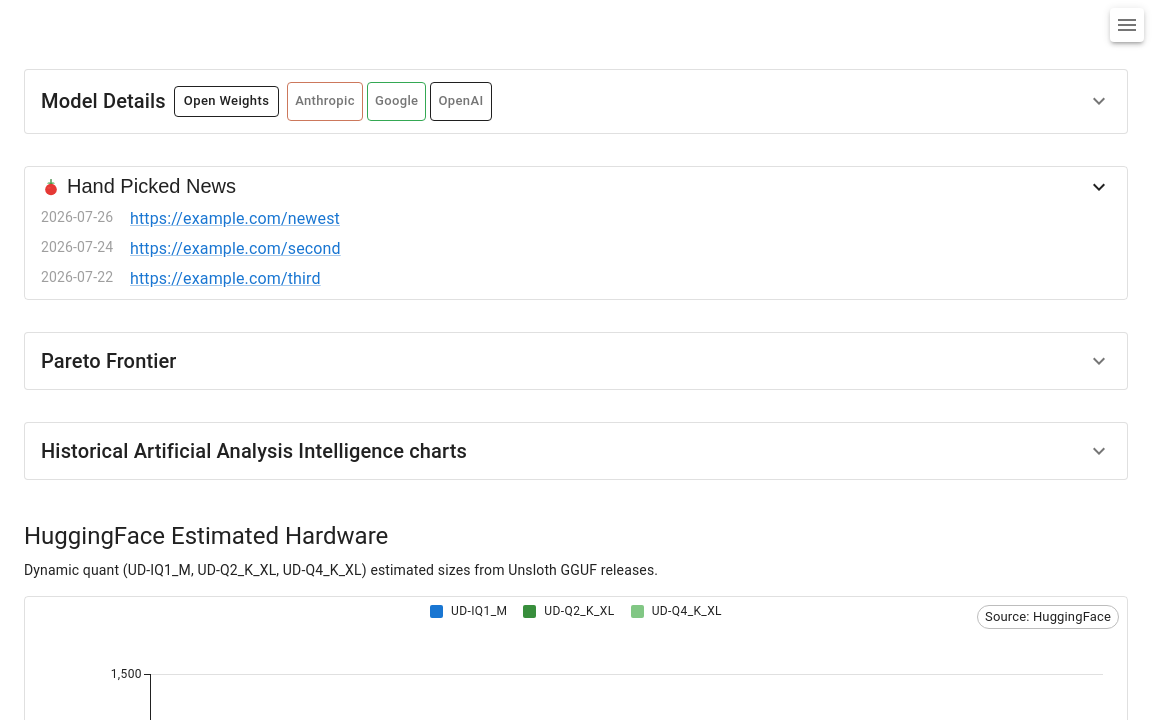
Test: Dashboard › shows the Pareto Frontier between news and the historical charts, collapsed by default
The image size is (1152, 720).
(page scrolled)
What coordinates should you click on to do the following:
click the button "Pareto Frontier"
I would click on:
 (109, 361)
Its box is [25,333,1127,389].
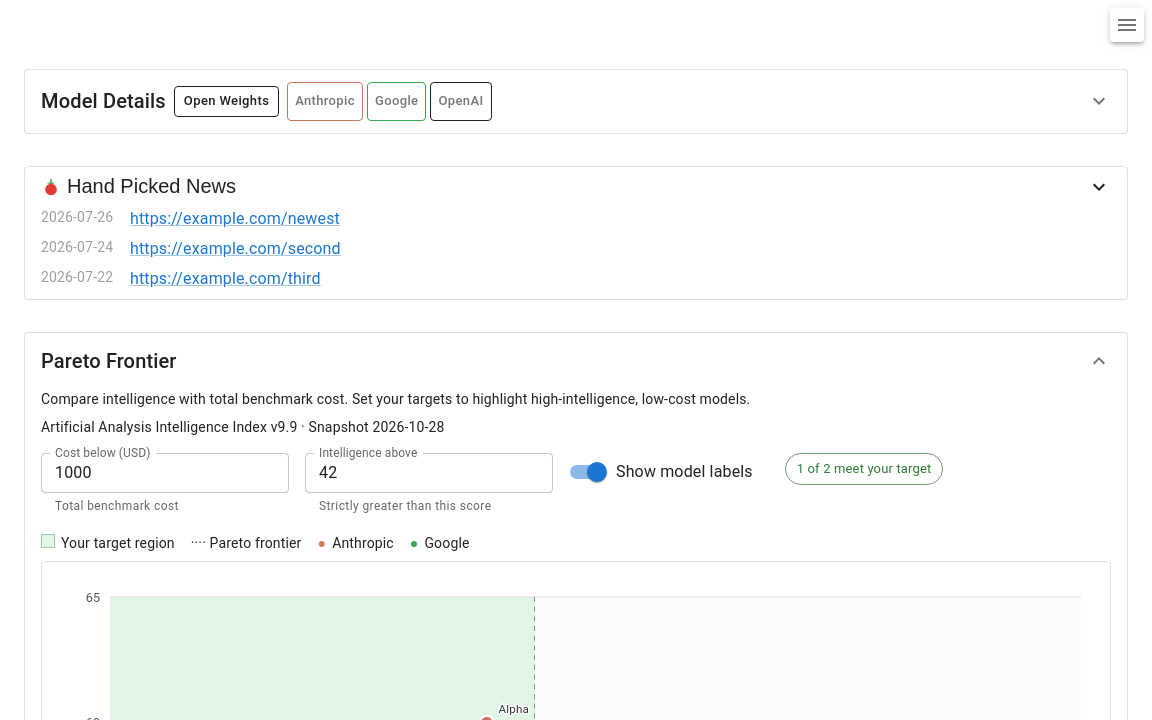
Check: the button "Pareto Frontier" is expanded
// Collapses again on click
What coordinates should you click on to do the following:
click the button "Pareto Frontier"
I would click on:
 (109, 361)
Its box is [25,333,1127,389].
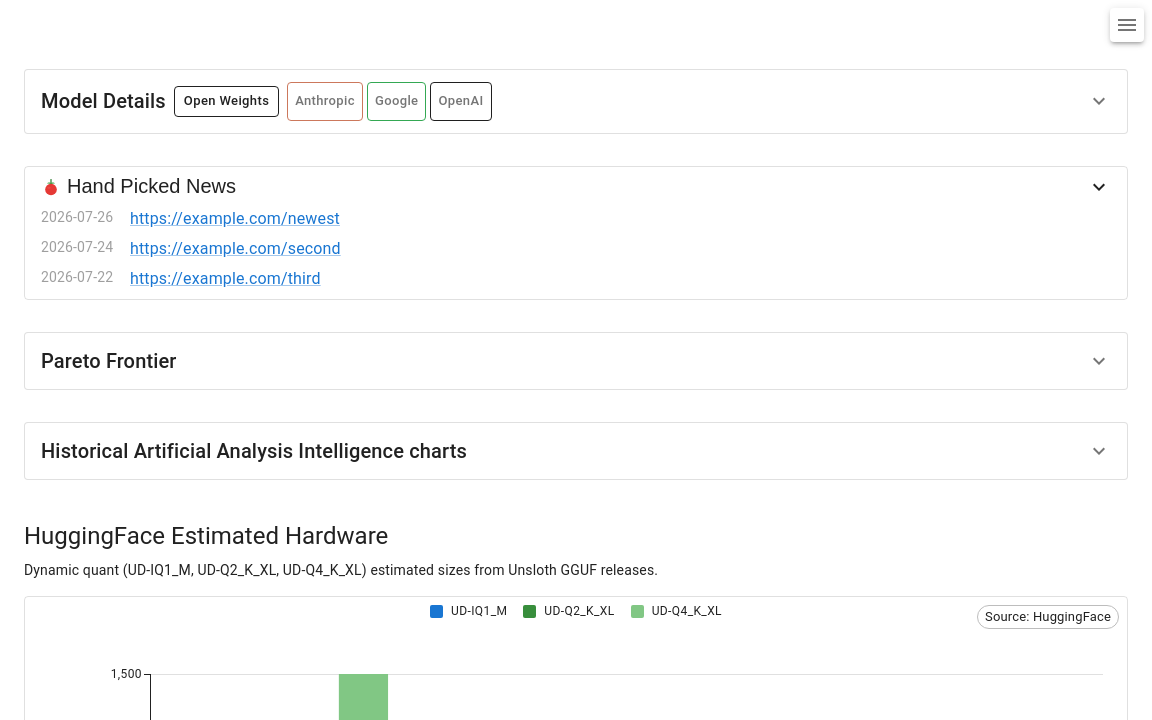
Check: the button "Pareto Frontier" is collapsed, box [25,333,1127,389]
